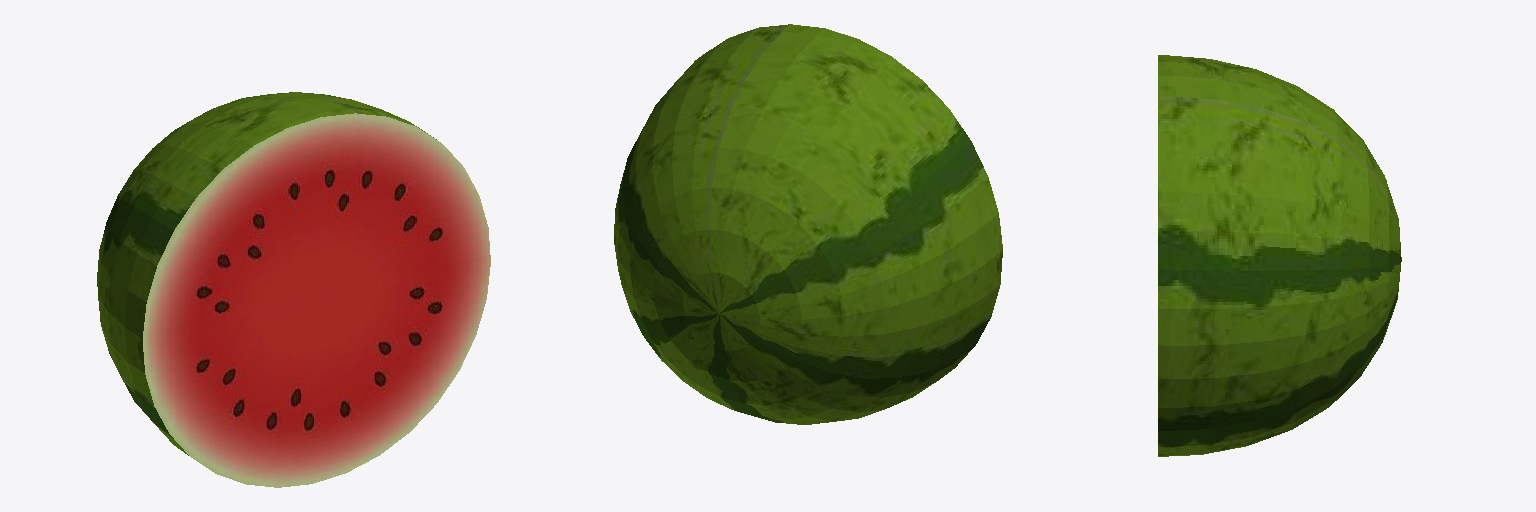
3 views of the same model, side by side, from view 1: azimuth 30°, elevation 25°; view 2: azimuth 150°, elevation 25°; view 3: azimuth 270°, elevation 25° (orthographic).
Parts seen in each view (by area): view 1: Sphere01; view 2: Sphere01; view 3: Sphere01.
Part boxes in pixels (x1,y1,x2,y2): Sphere01: (97,92,490,487); Sphere01: (614,24,1002,424); Sphere01: (1158,55,1401,456).
Bounding box in the file's own units: 71.51 × 71.54 × 43.24.
2 materials, 2 textured.